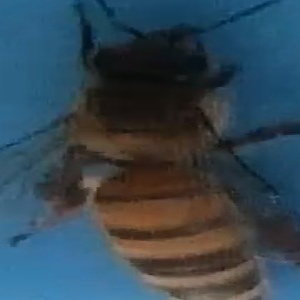bee: (32, 21, 300, 300)
